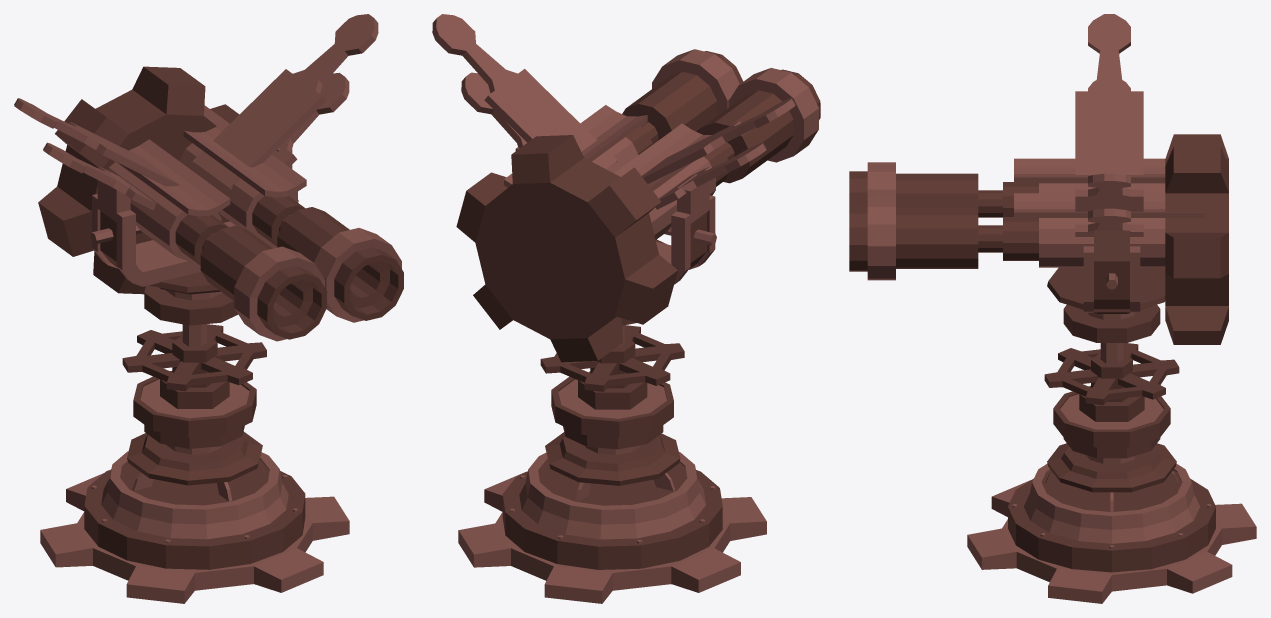
The model's file is bomber-1.glb.
3 renders of one model, left to right at view 1: azimuth 30°, elevation 25°; view 2: azimuth 150°, elevation 25°; view 3: azimuth 270°, elevation 25°, orthographic. The views are drawn at different scales.
Parts seen in each view (by area): view 1: Bomber_1_Gun, Bomber_1_Base, Bomber_1_Mid; view 2: Bomber_1_Gun, Bomber_1_Base, Bomber_1_Mid; view 3: Bomber_1_Gun, Bomber_1_Base, Bomber_1_Mid.
Part boxes in pixels (x1=…): Bomber_1_Gun: x1=14, y1=14, x2=403, y2=341; Bomber_1_Base: x1=40, y1=371, x2=349, y2=603; Bomber_1_Mid: x1=90, y1=148, x2=297, y2=408; Bomber_1_Gun: x1=432, y1=14, x2=820, y2=362; Bomber_1_Base: x1=458, y1=376, x2=766, y2=603; Bomber_1_Mid: x1=515, y1=147, x2=716, y2=409; Bomber_1_Gun: x1=849, y1=14, x2=1228, y2=344; Bomber_1_Base: x1=967, y1=386, x2=1256, y2=603; Bomber_1_Mid: x1=1044, y1=228, x2=1179, y2=421.
Size of the model in its own units: 1.84 by 2.37 by 1.94.
